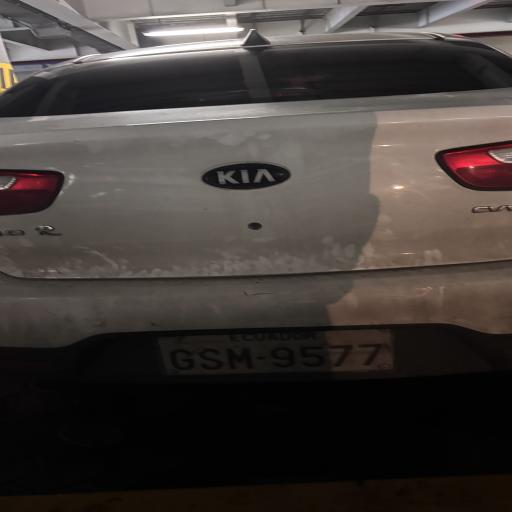license_plate: (158, 330, 393, 375)
